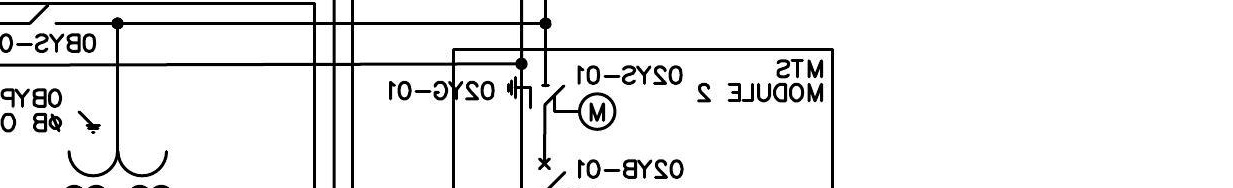115_3ways_ds_w_motor: (506, 75, 618, 132)
115_ds: (29, 5, 59, 26)
